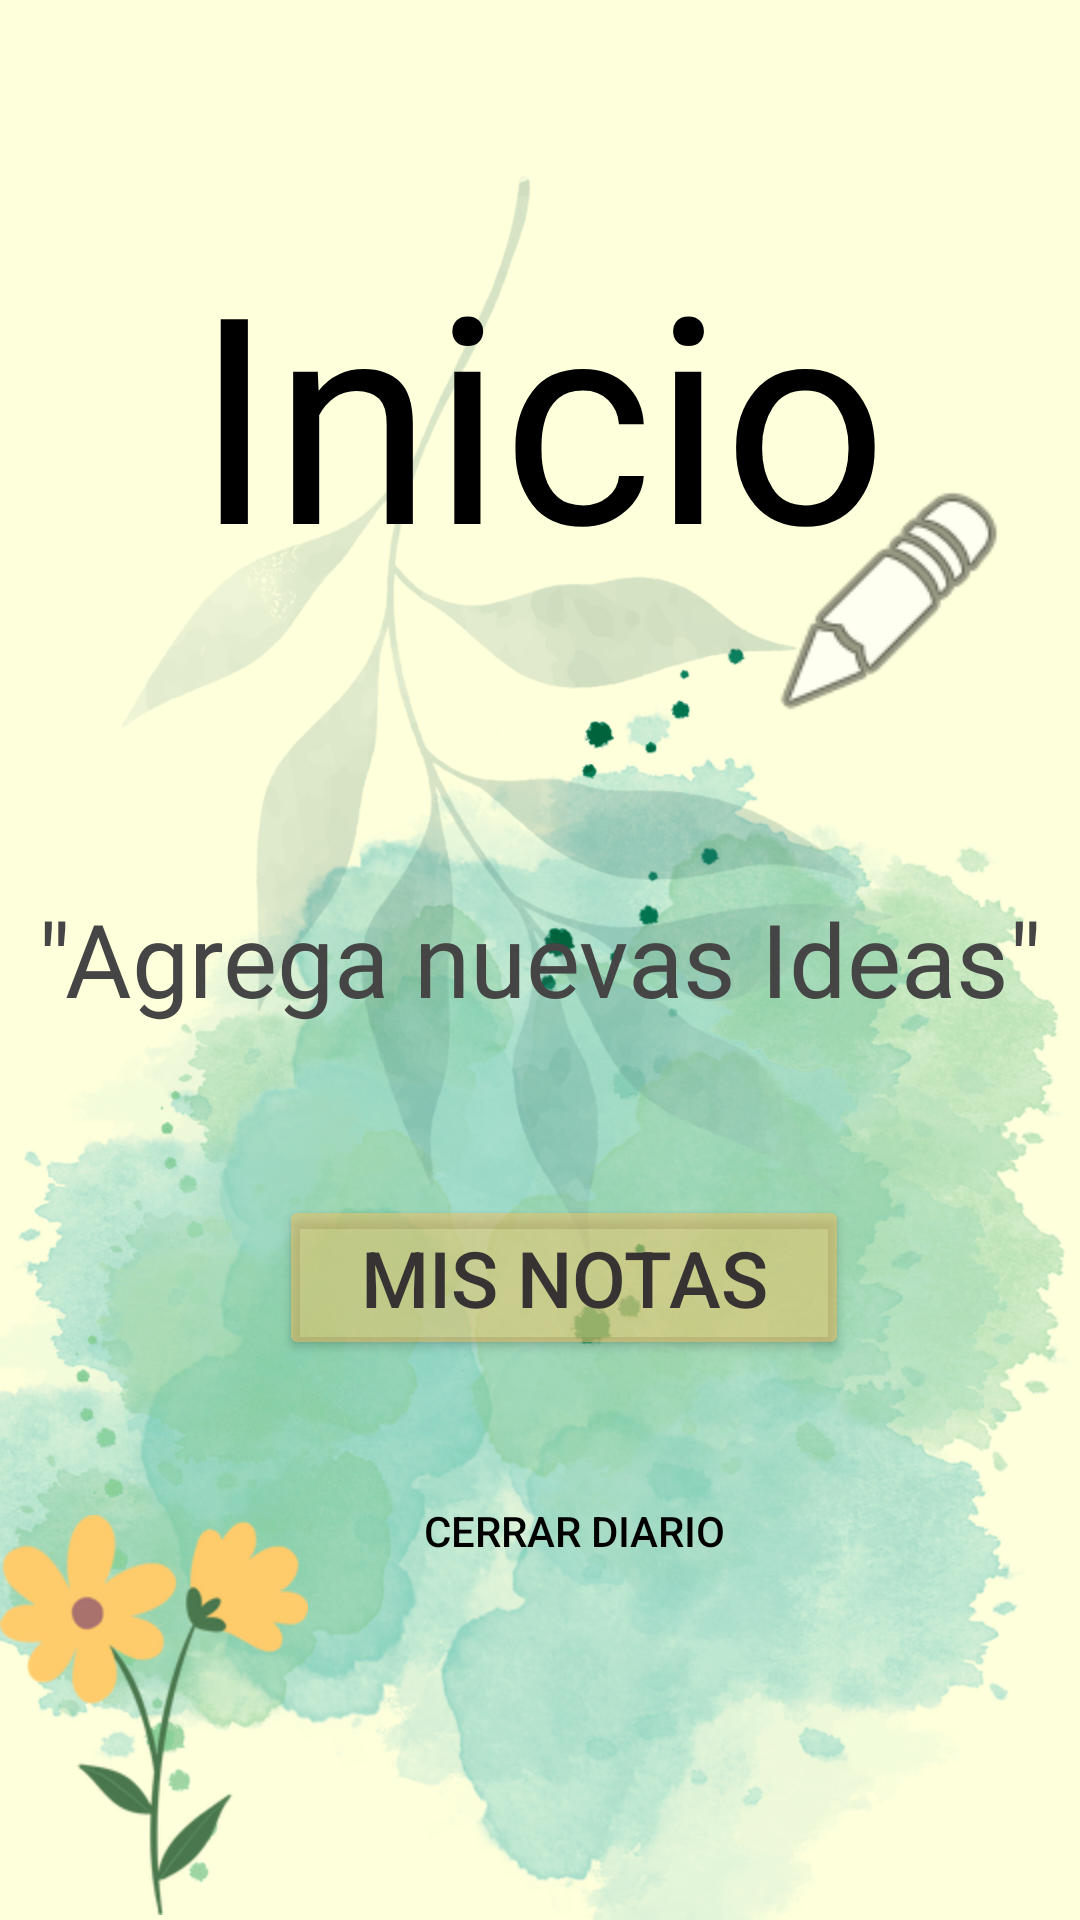

Where icons sit on this 1080×1920 app screen, as (x1, y1, x2, y2):
edit: (781, 493, 997, 709)
